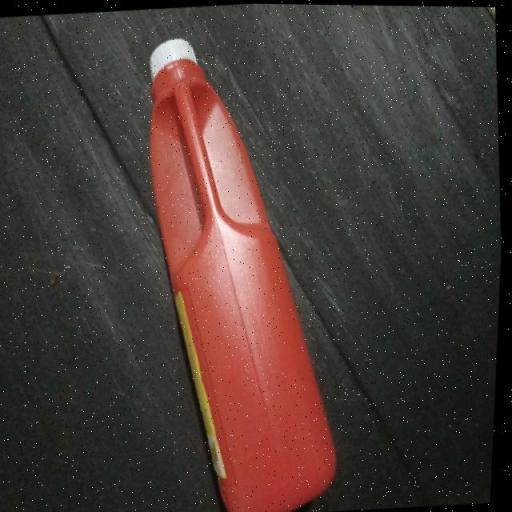plastic: (119, 20, 370, 512)
